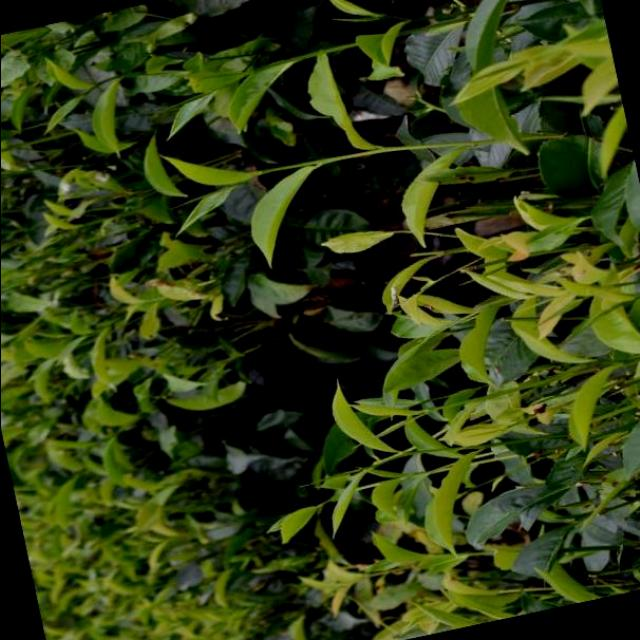Stem: (426, 407, 434, 413), (291, 57, 299, 63), (400, 452, 406, 456), (260, 170, 265, 174)
